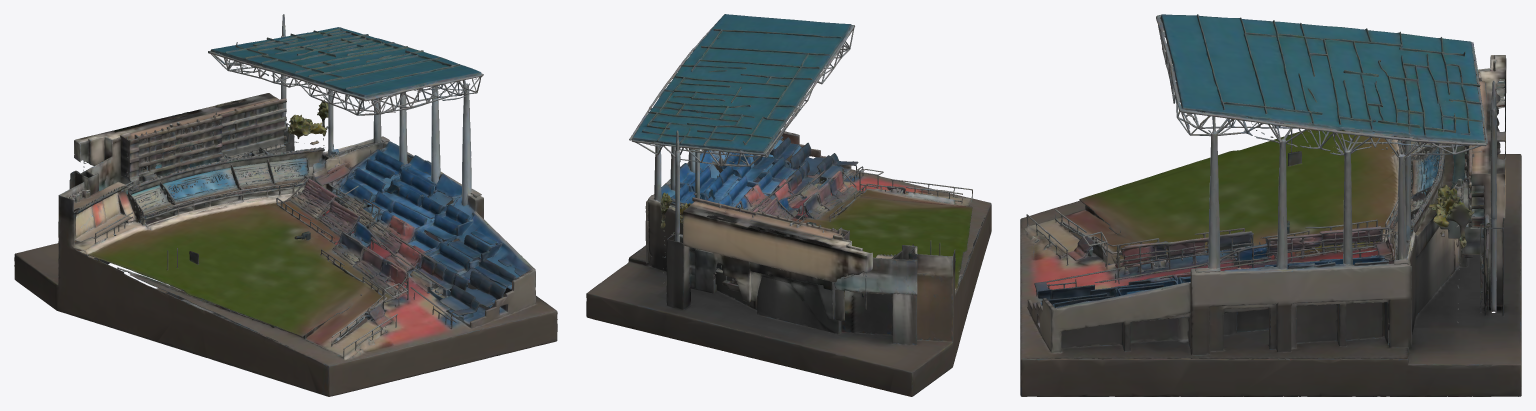
The model's file is aswan-stadium-3.glb.
The picture shows the model from 3 angles, left to right: view 1: azimuth 30°, elevation 25°; view 2: azimuth 150°, elevation 25°; view 3: azimuth 270°, elevation 25°; orthographic projection. The views are drawn at different scales.
Size of the model in its own units: 0.9986 by 0.662 by 1.
Materials: 1 (1 with a texture image).
